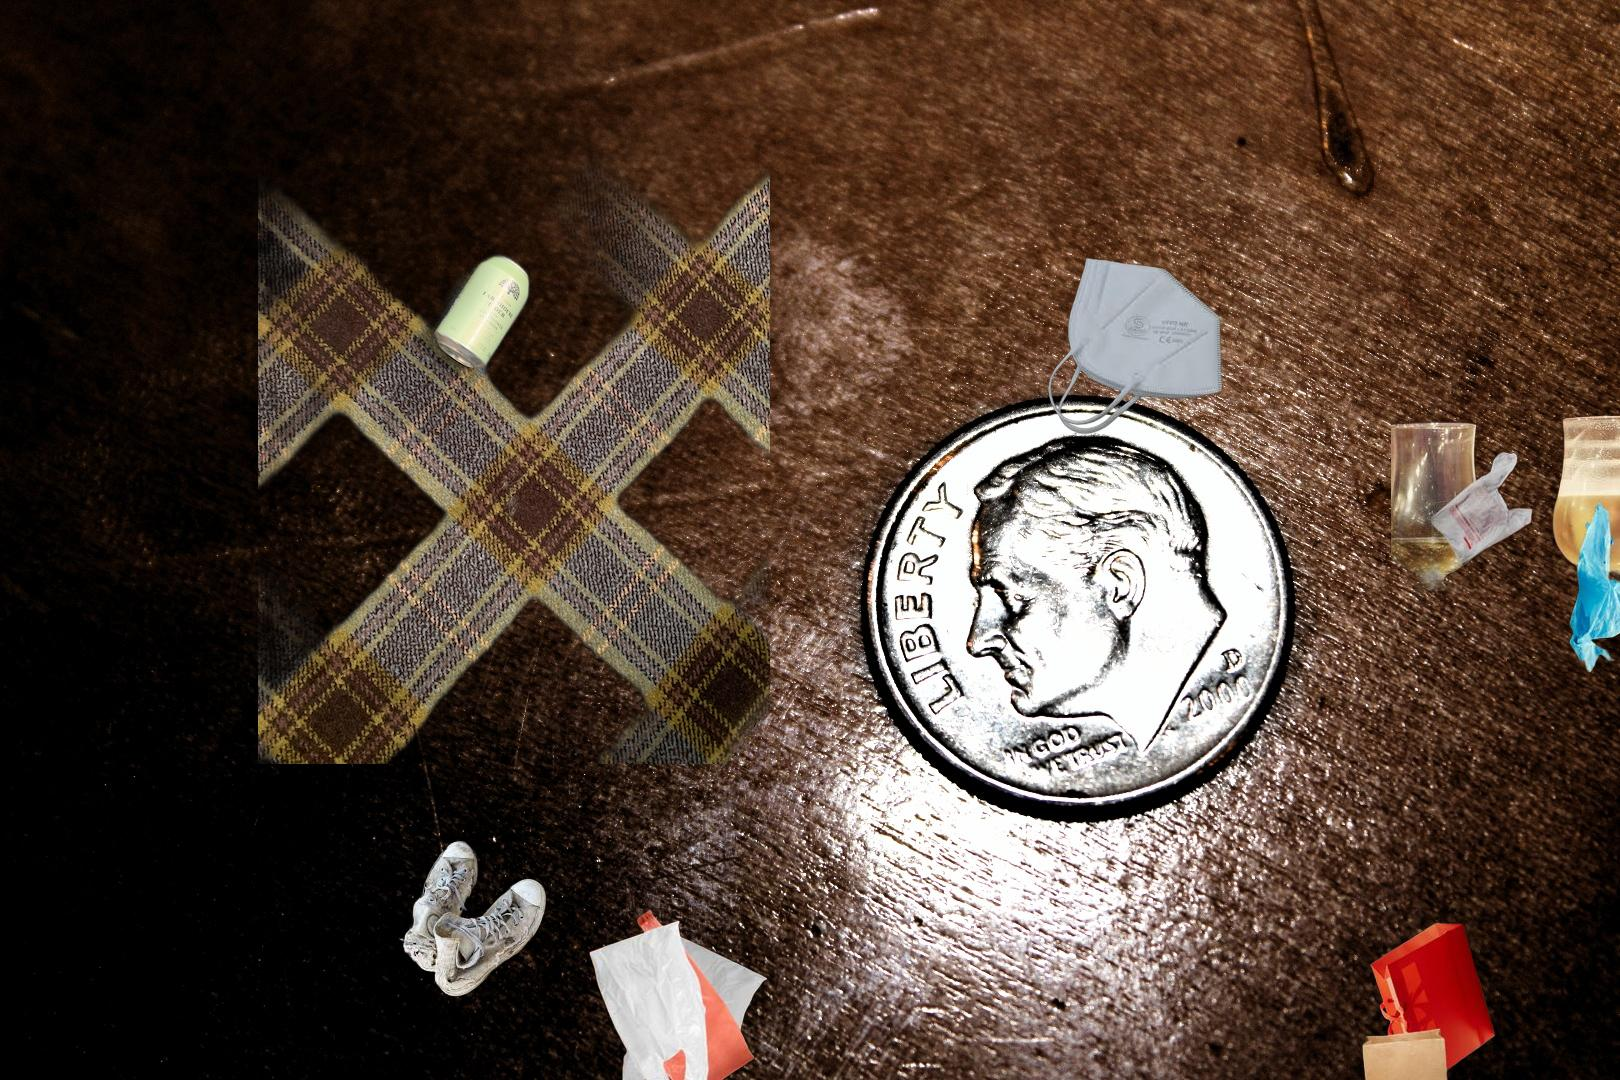metal-cans: (258, 81, 770, 764)
paper-bag: (1360, 921, 1498, 1080)
plastic-bag: (1391, 413, 1620, 676), (587, 906, 769, 1080)
shoes: (397, 838, 548, 999)
trash: (1045, 256, 1225, 438)
